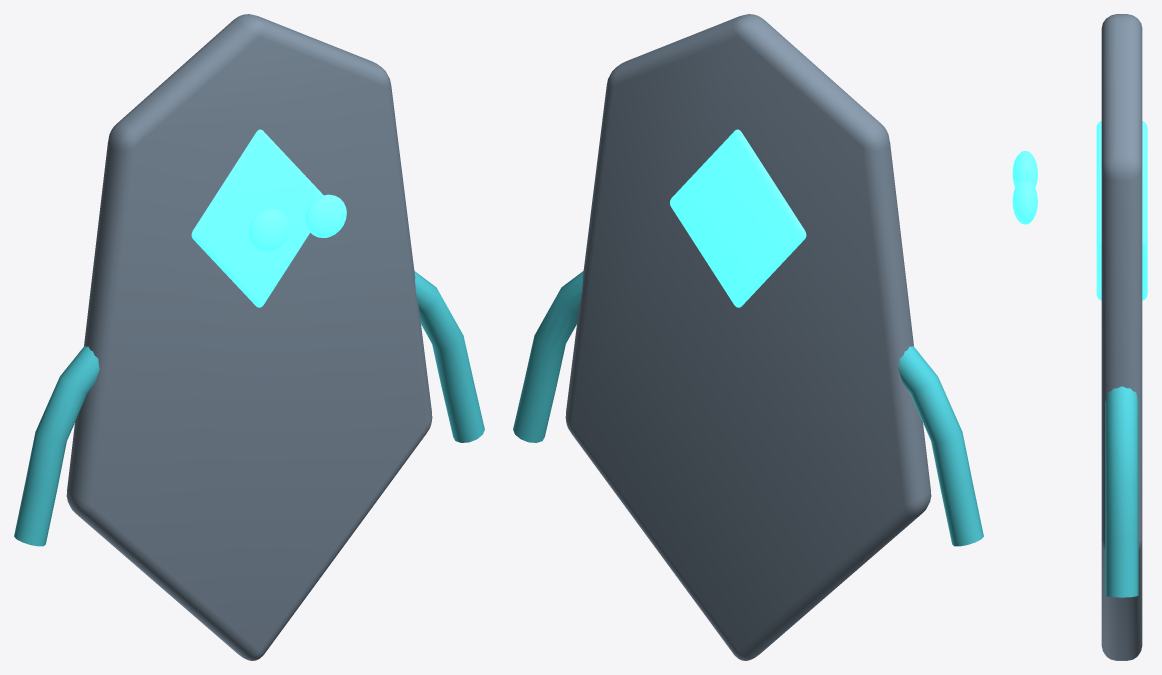
File: wraith_v8.glb
3 views of the same model, side by side, from view 1: azimuth 30°, elevation 25°; view 2: azimuth 150°, elevation 25°; view 3: azimuth 270°, elevation 25° (orthographic).
Parts seen in each view (by area): view 1: MIRROR_SHADE_PRIMARY, MIRROR_FACE_EMISSIVE, SHADE_ARM_ACCENT, SHADE_ARM_ACCENT.001, EYE_EMISSIVE, EYE_EMISSIVE.001; view 2: MIRROR_SHADE_PRIMARY, MIRROR_FACE_EMISSIVE, SHADE_ARM_ACCENT, SHADE_ARM_ACCENT.001; view 3: MIRROR_SHADE_PRIMARY, SHADE_ARM_ACCENT.001, MIRROR_FACE_EMISSIVE, EYE_EMISSIVE.001, EYE_EMISSIVE.
Boxes of the visible parts, x1,y1,x2,y2 form: MIRROR_SHADE_PRIMARY: (66, 14, 432, 660); MIRROR_FACE_EMISSIVE: (191, 129, 323, 307); SHADE_ARM_ACCENT: (14, 346, 99, 546); SHADE_ARM_ACCENT.001: (414, 271, 484, 442); EYE_EMISSIVE: (248, 208, 289, 251); EYE_EMISSIVE.001: (305, 194, 346, 237); MIRROR_SHADE_PRIMARY: (565, 14, 931, 660); MIRROR_FACE_EMISSIVE: (670, 129, 806, 307); SHADE_ARM_ACCENT: (898, 346, 983, 546); SHADE_ARM_ACCENT.001: (513, 271, 583, 442); MIRROR_SHADE_PRIMARY: (1101, 14, 1142, 660); SHADE_ARM_ACCENT.001: (1105, 386, 1138, 597); MIRROR_FACE_EMISSIVE: (1096, 121, 1147, 300); EYE_EMISSIVE.001: (1012, 179, 1037, 224); EYE_EMISSIVE: (1012, 151, 1037, 187).
Size of the model in its own units: 2.12 by 2.79 by 0.53.
